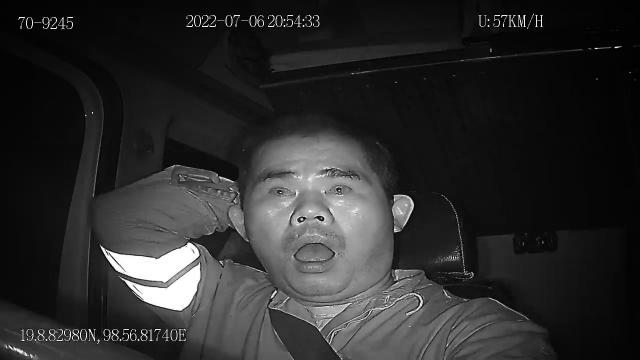SafeDriving: (260, 175, 302, 204), (320, 174, 358, 203)
Seatbelt: (267, 304, 343, 360)
